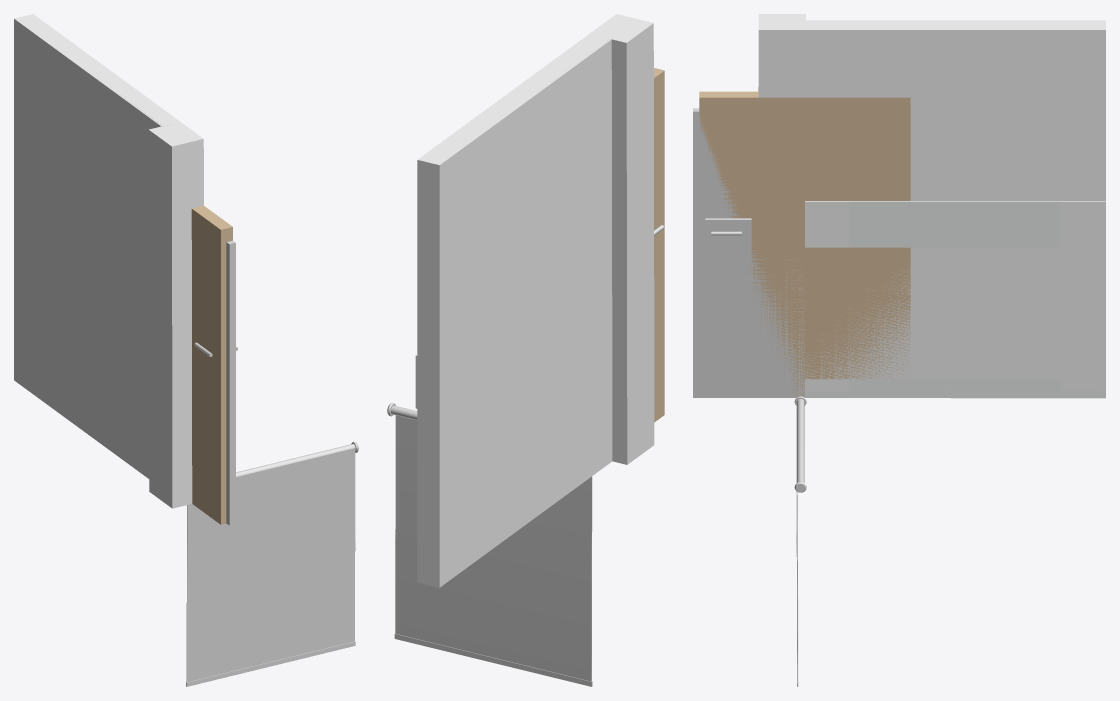
File: Architecture_Modular.fbx
3 renders of one model, left to right at view 1: azimuth 30°, elevation 25°; view 2: azimuth 150°, elevation 25°; view 3: azimuth 270°, elevation 25°, orthographic. The views are drawn at different scales.
Visible parts, largest first — view 1: ClinicWallInterior, Window, ClinicWallInteriorHalf, Column, ClinicDoor.001, DoorClinic, ClinicWallDoor; view 2: ClinicWallInterior, Window, Column, ClinicWallInteriorHalf, ClinicDoor.001, ClinicWallDoor; view 3: ClinicWallInterior, ClinicDoor.001, ClinicWallInteriorHalf, DoorClinic, ClinicWallExterior, ClinicWallDoor, Column, Window.
Part boxes in pixels (x1,y1,x2,y2): ClinicWallInterior: (14, 14, 180, 478); Window: (186, 441, 358, 686); ClinicWallInteriorHalf: (88, 73, 180, 477); Column: (148, 122, 203, 508); ClinicDoor.001: (191, 205, 232, 524); DoorClinic: (194, 240, 237, 525); ClinicWallDoor: (89, 69, 173, 126); ClinicWallInterior: (417, 33, 612, 587); Window: (387, 403, 592, 686); Column: (590, 14, 654, 464); ClinicWallInteriorHalf: (526, 34, 612, 479); ClinicDoor.001: (654, 68, 664, 422); ClinicWallDoor: (415, 35, 610, 408); ClinicWallInterior: (805, 20, 1105, 397); ClinicDoor.001: (699, 91, 910, 397); ClinicWallInteriorHalf: (805, 26, 955, 397); DoorClinic: (693, 108, 815, 397); ClinicWallExterior: (805, 201, 1105, 398); ClinicWallDoor: (805, 21, 1105, 395); Column: (758, 14, 805, 397); Window: (794, 396, 806, 686).
Bounding box in the file's own units: 1.6 × 4.2 × 2.74.
